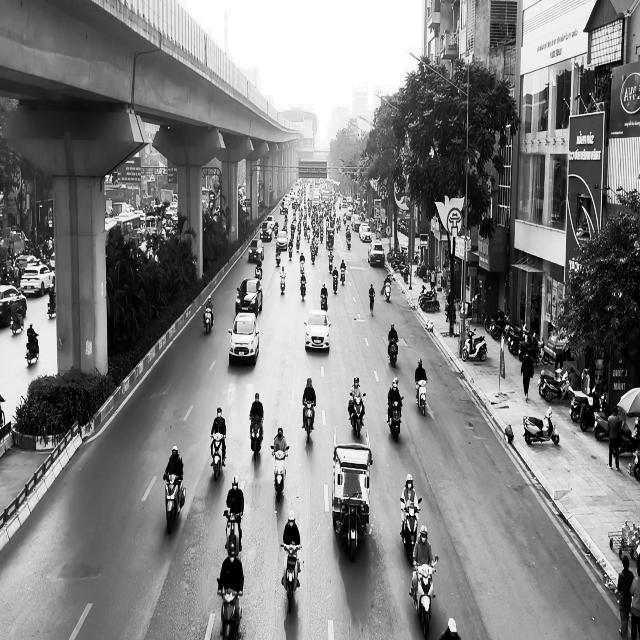car: (228, 311, 260, 366), (304, 309, 332, 351), (235, 277, 263, 317), (369, 239, 385, 267)
motorbike: (409, 555, 438, 638), (217, 577, 243, 639), (523, 405, 560, 446), (281, 542, 302, 614), (400, 496, 422, 564), (164, 471, 186, 534), (270, 445, 290, 500), (224, 509, 243, 558), (462, 328, 488, 361), (387, 395, 404, 443), (349, 392, 366, 438), (211, 432, 226, 481), (302, 399, 316, 444), (250, 415, 264, 459), (25, 332, 39, 365), (416, 379, 428, 415), (10, 308, 24, 334), (388, 338, 399, 366), (203, 307, 214, 334), (384, 279, 392, 302), (300, 277, 307, 300), (320, 291, 328, 311), (332, 271, 339, 293), (280, 272, 287, 293)
